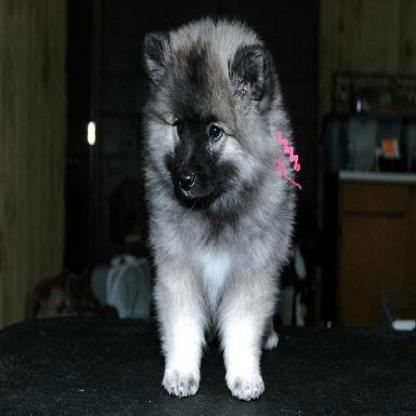keeshond: (137, 13, 296, 401)
